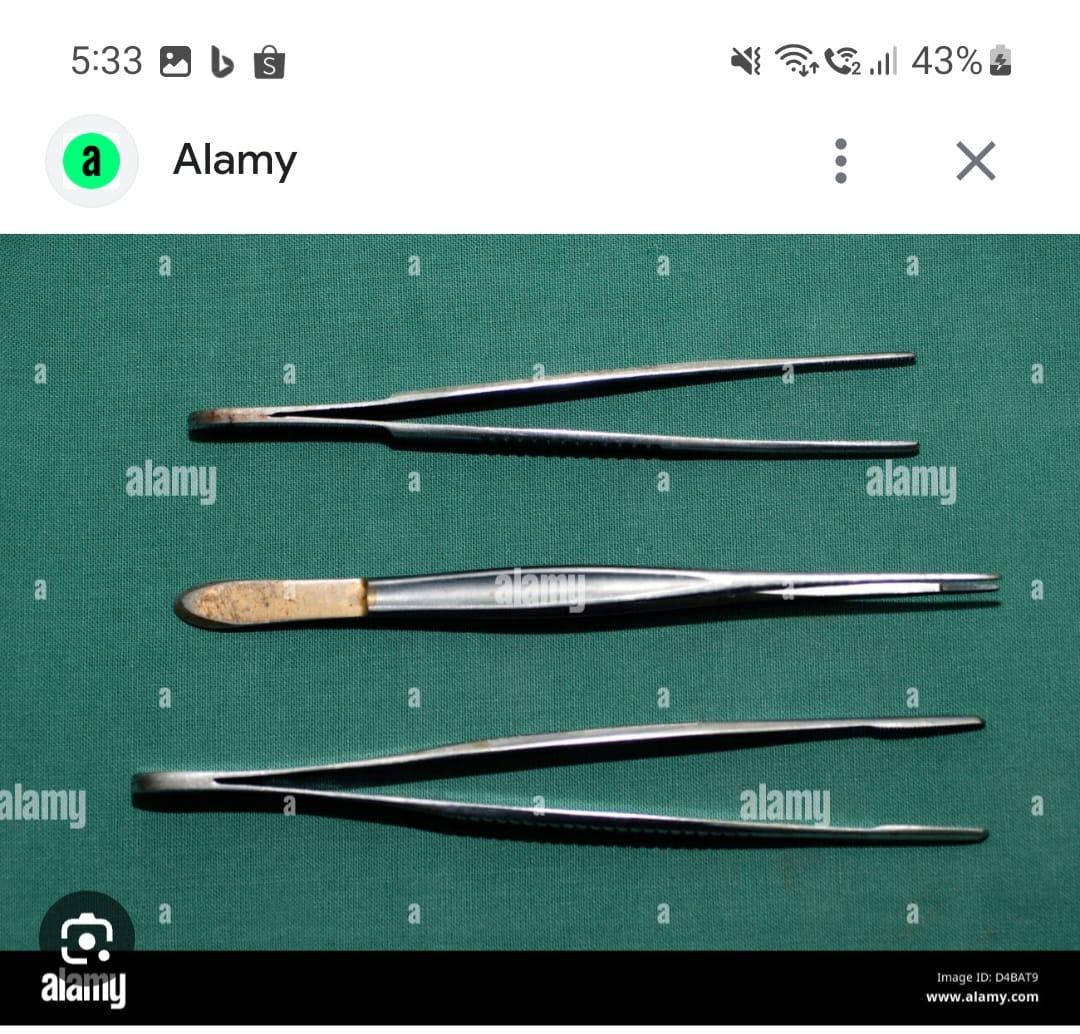Disscting Forceps: (122, 695, 1013, 873), (165, 328, 937, 490), (168, 538, 1015, 657)
